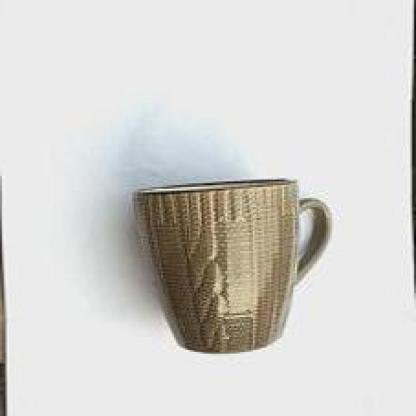mug: (124, 152, 323, 361)
